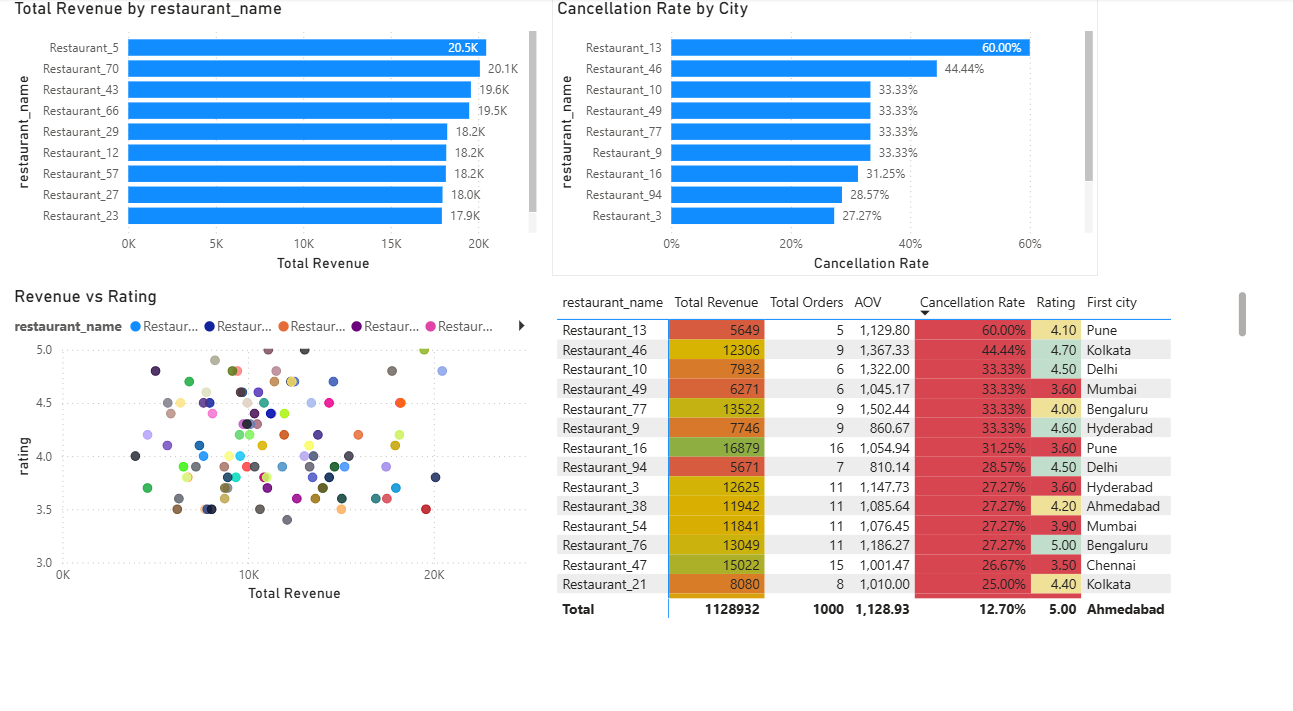

Layout of this report page (visuals, bound fields, positions):
{"tool":"powerbi","page":{"name":"Restaurant Intelligence","canvas":[1280,720],"ordinal":2},"visuals":[{"type":"clusteredBarChart","fields":{"Category":["restaurants(1).restaurant_name"],"Y":["_measures.Total Revenue"]},"box":[9.7,0,518.4,270.4],"z":0},{"type":"scatterChart","title":"Revenue vs Rating","fields":{"X":["_measures.Total Revenue"],"Y":["restaurants(1).rating"],"Series":["restaurants(1).restaurant_name"]},"box":[9.7,280.1,518.4,312.2],"z":1000},{"type":"clusteredBarChart","title":"Cancellation Rate by City","fields":{"Category":["restaurants(1).restaurant_name"],"Y":["_measures.Cancellation Rate"]},"box":[537.9,0,531.1,270.4],"z":2000},{"type":"pivotTable","fields":{"Rows":["restaurants(1).restaurant_name"],"Values":["_measures.Total Revenue","_measures.Total Orders","_measures.AOV","_measures.Cancellation Rate","Max(restaurants(1).rating)","Min(restaurants(1).city)"]},"box":[537.9,280.1,680.9,327.8],"z":3000}]}

Visuals, with their boxes in screenshot pixels (x1, y1, x2, y2), scaled from the page's 1280x720 canvas onto the 1293x711 screenshot:
clusteredBarChart - restaurants(1).restaurant_name x _measures.Total Revenue: x1=10 y1=0 x2=533 y2=267
"Revenue vs Rating" scatterChart: x1=10 y1=277 x2=533 y2=585
"Cancellation Rate by City" clusteredBarChart: x1=543 y1=0 x2=1080 y2=267
pivotTable - restaurants(1).restaurant_name x _measures.Total Revenue: x1=543 y1=277 x2=1231 y2=600
